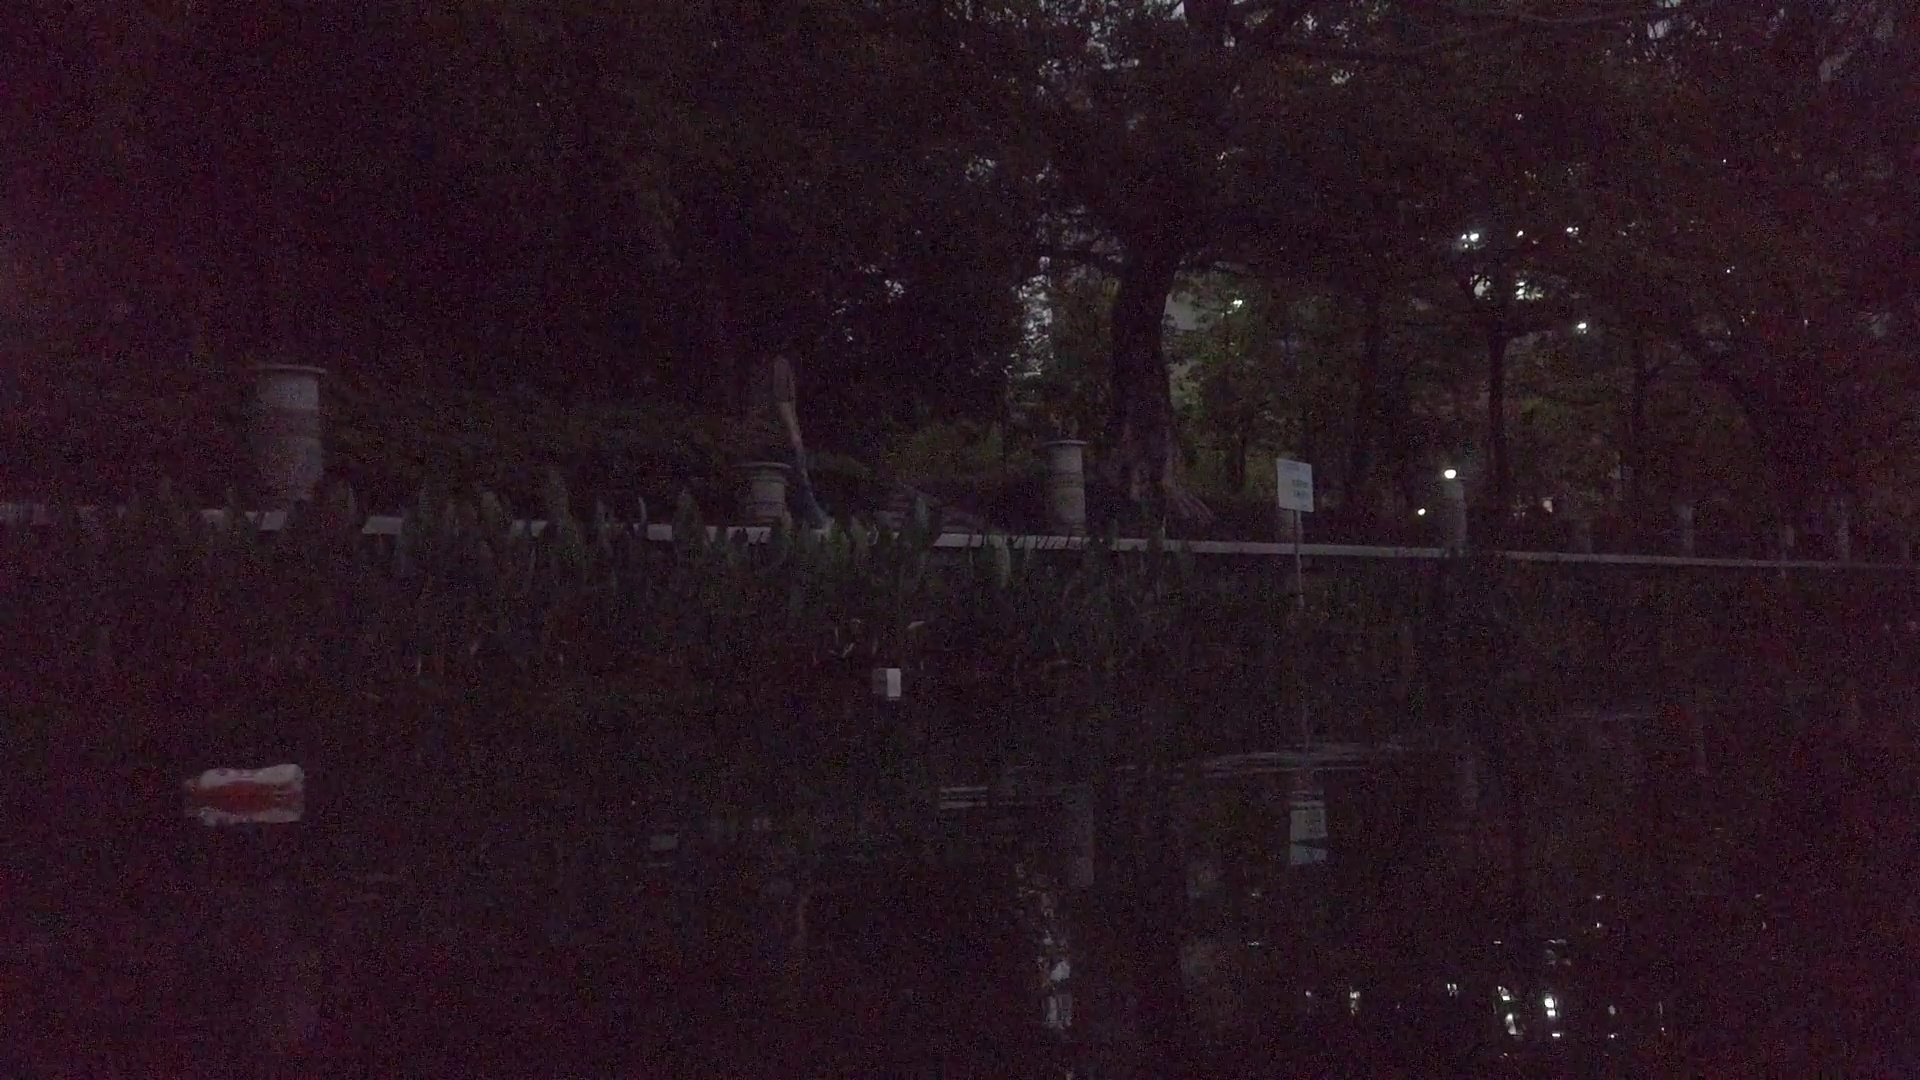bottle: (183, 765, 301, 803)
carton: (876, 663, 903, 691)
